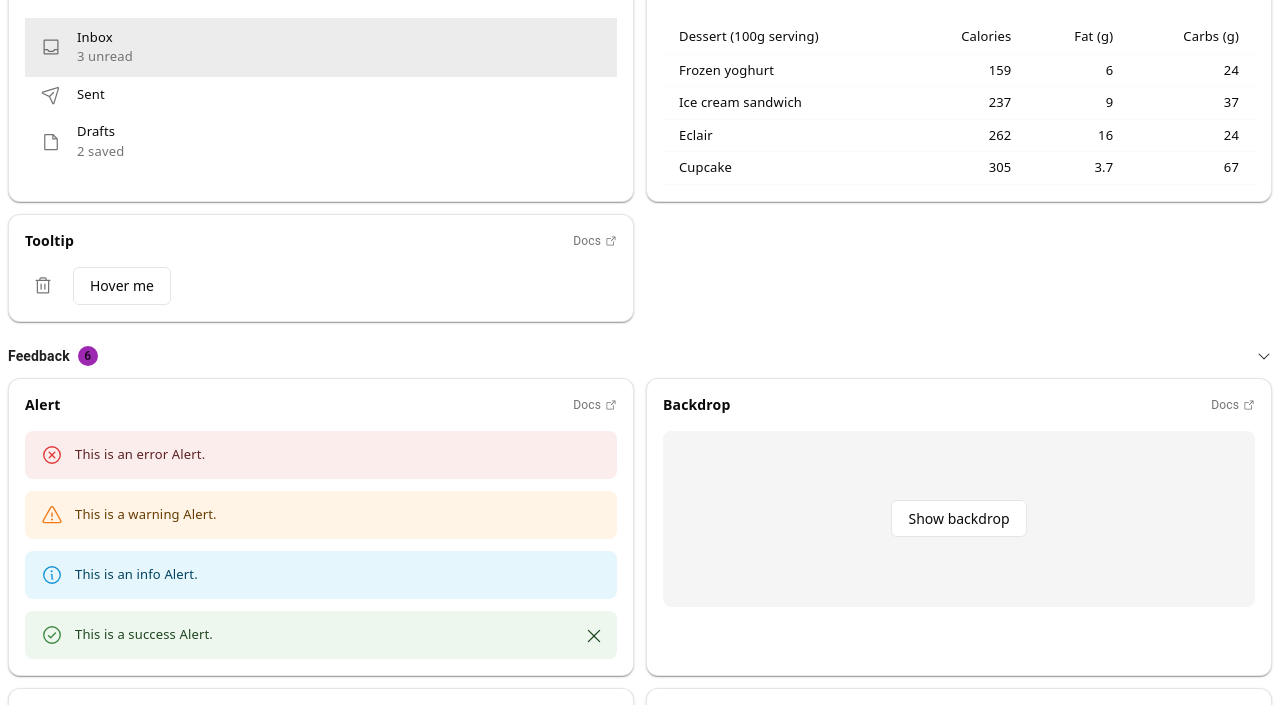
Test: PreviewArea Feedback section › collapses and expands the Feedback section from its header
(page scrolled)
What coordinates should you click on to do the following:
click the text "Feedback"
I would click on:
 (39, 356)
Its box is x1=8 y1=346 x2=70 y2=366.
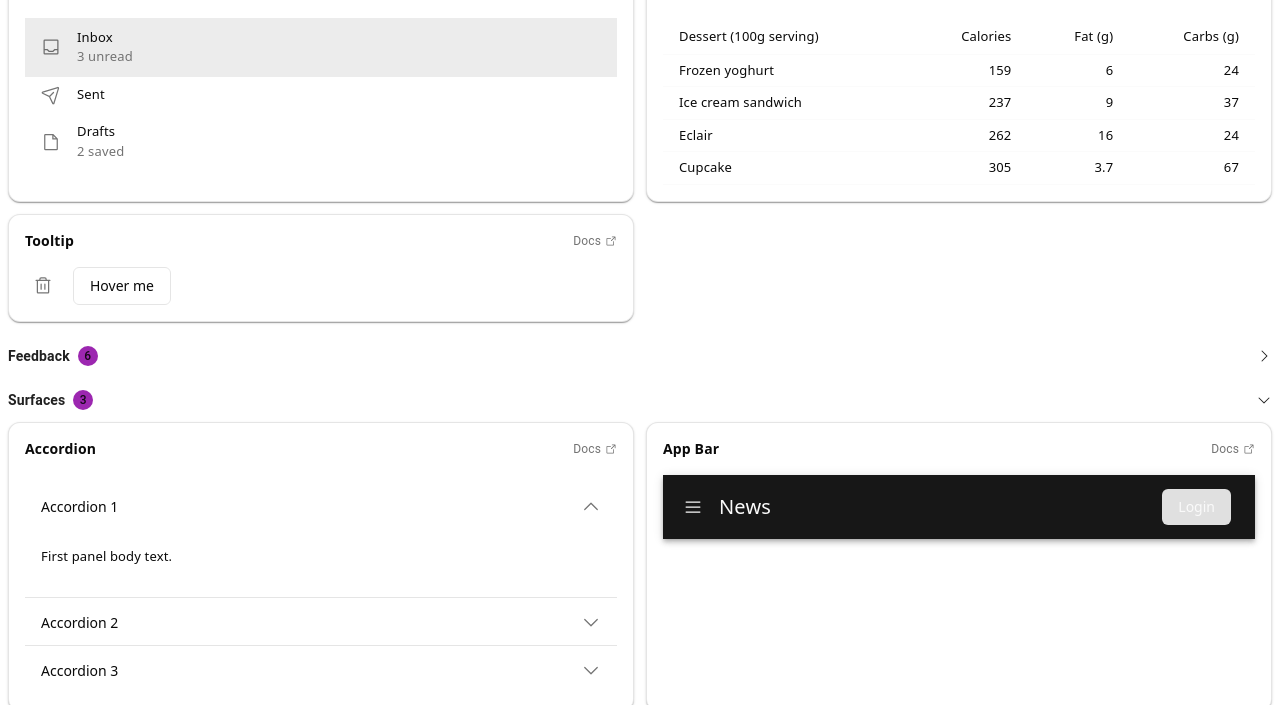
expect the text "Alert" is gone: met
What coordinates should you click on to do the following:
click the text "Feedback"
I would click on:
 (39, 356)
Its box is x1=8 y1=346 x2=70 y2=366.
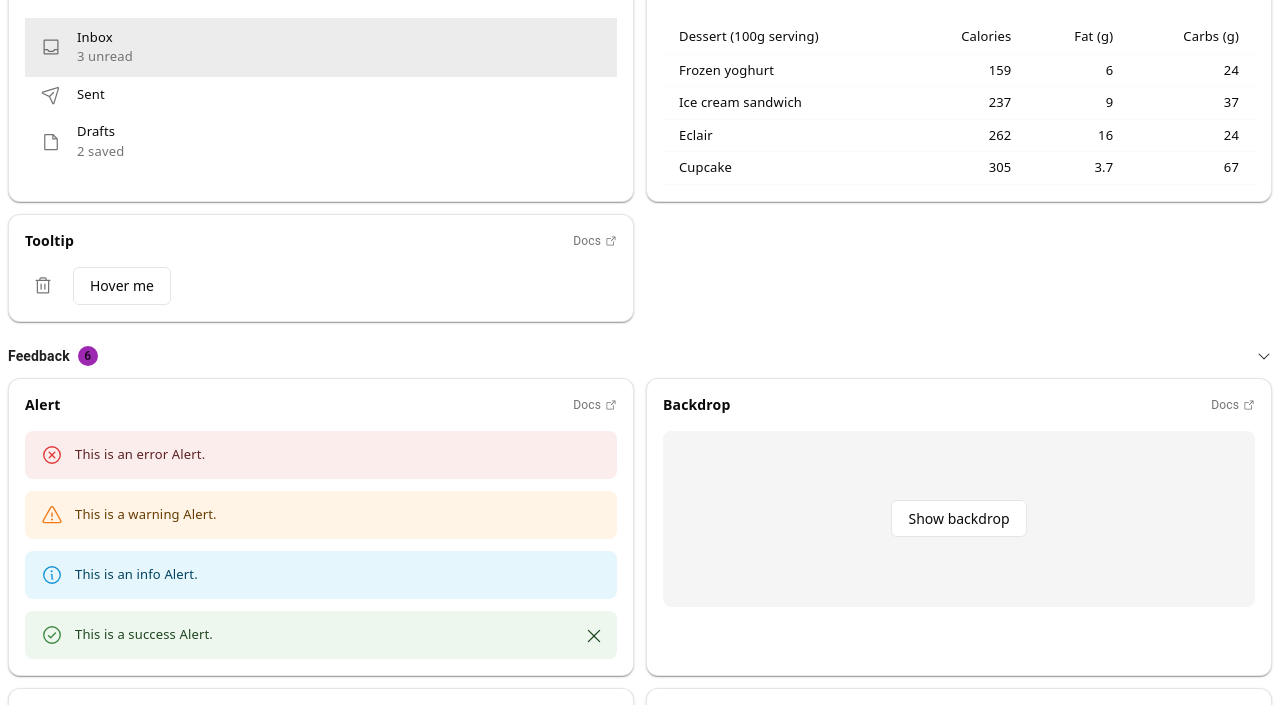
expect the text "Alert" is shown: met, box x1=25 y1=394 x2=60 y2=414
